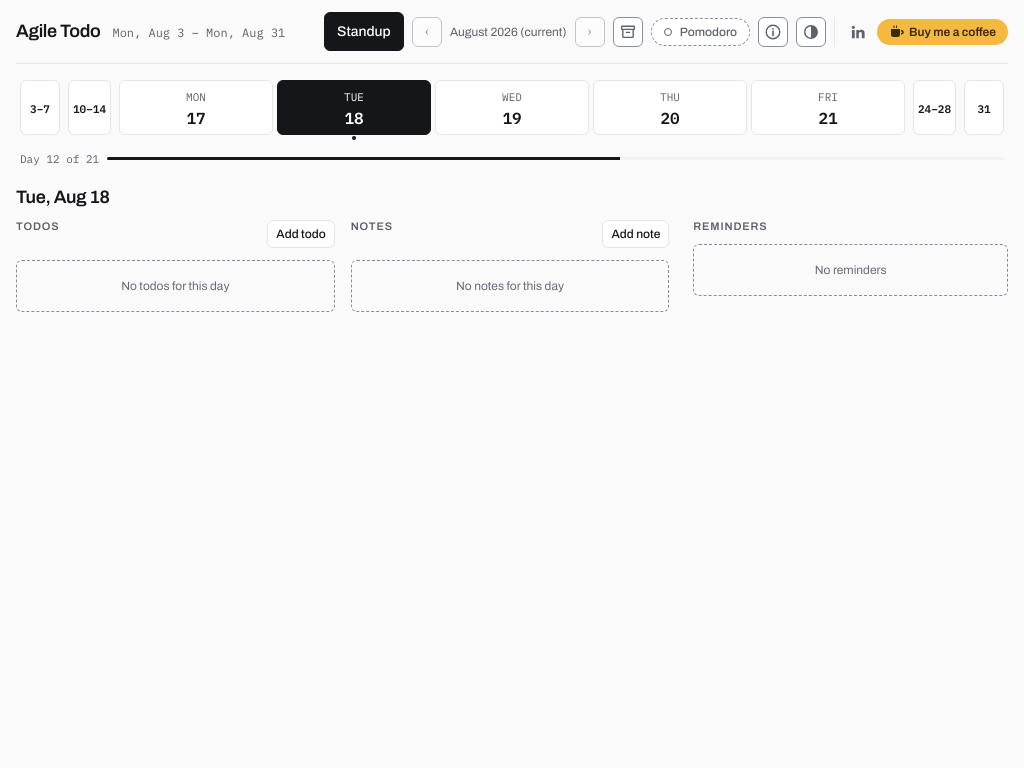
Scenario: backup modal › opens a dialog holding both actions
The image size is (1024, 768).
Click the button named "Backup" at (628, 32), box top-left (613, 16), bottom-right (643, 46)
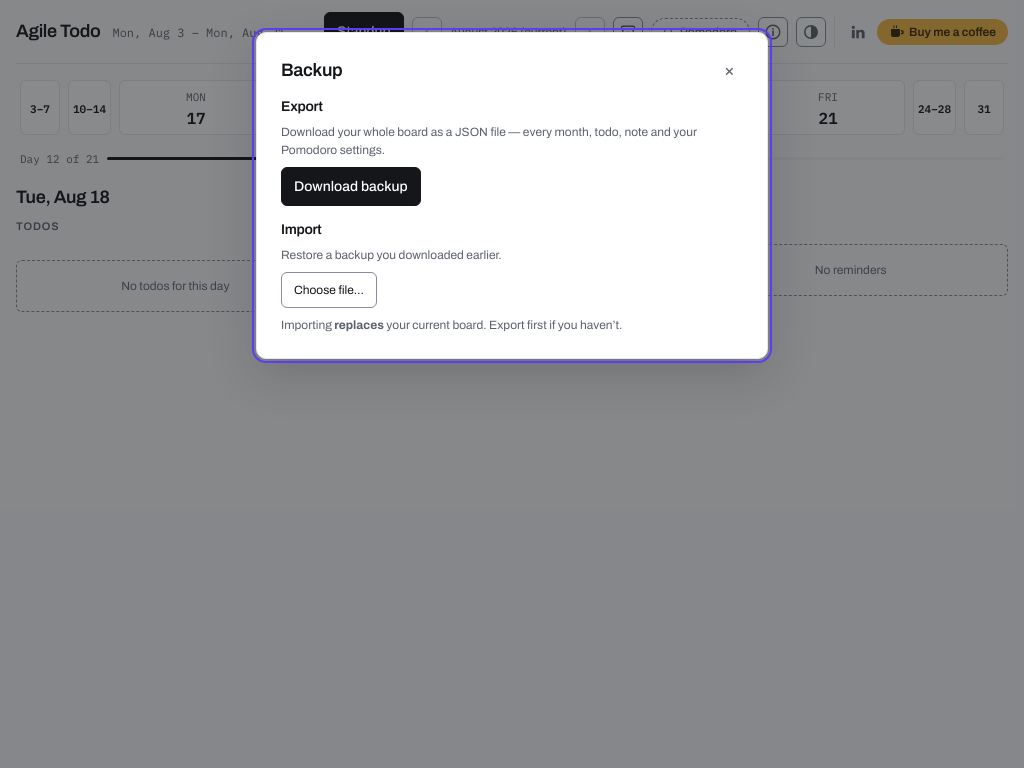
Now the button "Download backup" is shown, box top-left (281, 167), bottom-right (421, 206)
Now the file field labelled "Choose file…" is shown, box top-left (281, 272), bottom-right (377, 308)
